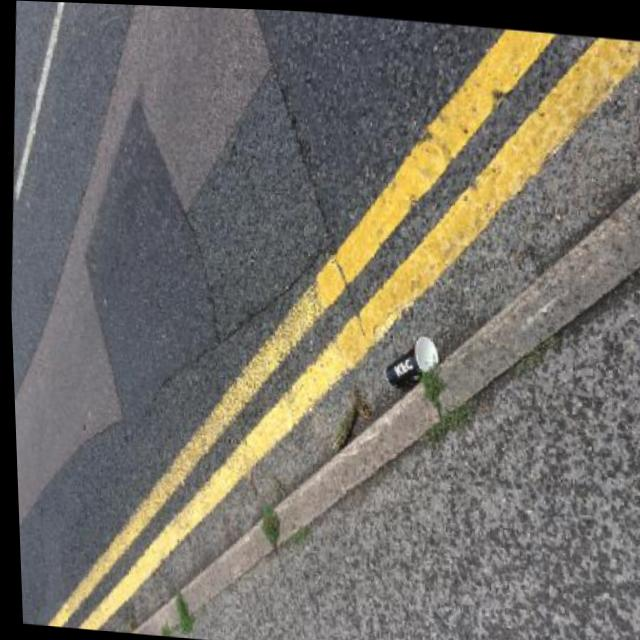cardboard: (381, 331, 441, 391)
